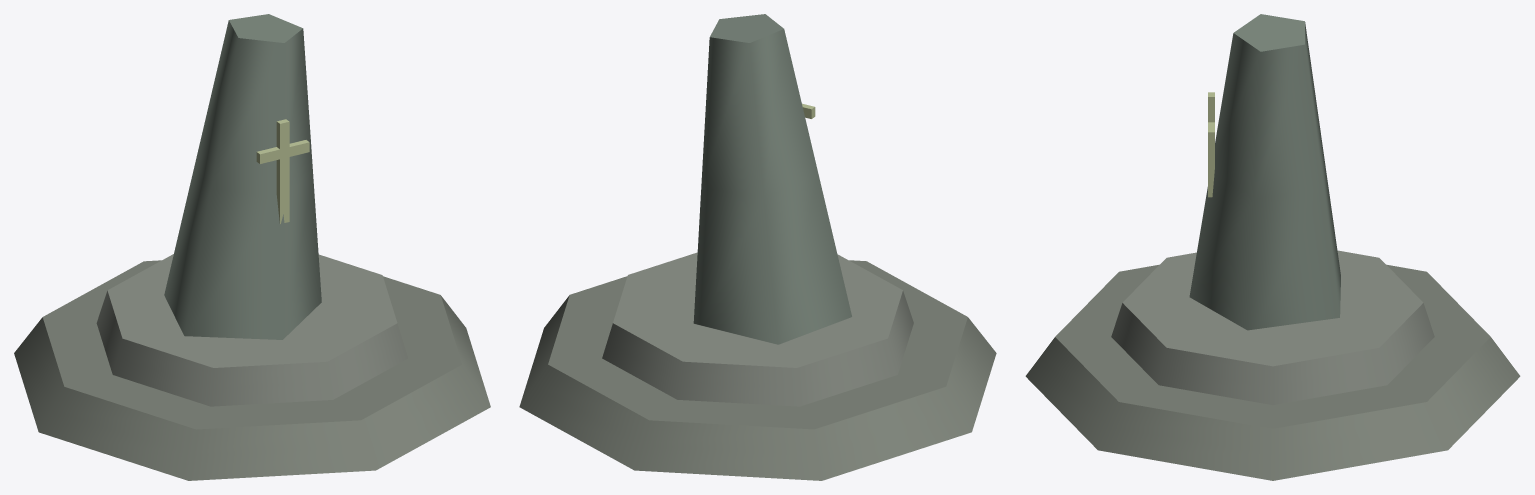
File: Prop_Shrine_Optional.glb
3 renders of one model, left to right at view 1: azimuth 30°, elevation 25°; view 2: azimuth 150°, elevation 25°; view 3: azimuth 270°, elevation 25°, orthographic.
Visible parts, largest first — view 1: _MeshInstance3D_4931, _MeshInstance3D_4933, _MeshInstance3D_4932, _MeshInstance3D_4934, _MeshInstance3D_4935; view 2: _MeshInstance3D_4931, _MeshInstance3D_4933, _MeshInstance3D_4932; view 3: _MeshInstance3D_4931, _MeshInstance3D_4933, _MeshInstance3D_4932, _MeshInstance3D_4934.
Part boxes in pixels (left/top/right/bottom): _MeshInstance3D_4931: left=14, top=260, right=490, bottom=480; _MeshInstance3D_4933: left=164, top=14, right=321, bottom=339; _MeshInstance3D_4932: left=96, top=254, right=408, bottom=406; _MeshInstance3D_4934: left=276, top=119, right=289, bottom=223; _MeshInstance3D_4935: left=256, top=140, right=309, bottom=163; _MeshInstance3D_4931: left=519, top=260, right=996, bottom=480; _MeshInstance3D_4933: left=693, top=14, right=851, bottom=344; _MeshInstance3D_4932: left=602, top=252, right=913, bottom=406; _MeshInstance3D_4931: left=1025, top=264, right=1520, bottom=480; _MeshInstance3D_4933: left=1189, top=14, right=1340, bottom=330; _MeshInstance3D_4932: left=1111, top=250, right=1434, bottom=405; _MeshInstance3D_4934: left=1208, top=92, right=1214, bottom=197.
Bounding box in the file's own units: 2.5 × 1.96 × 2.5.
